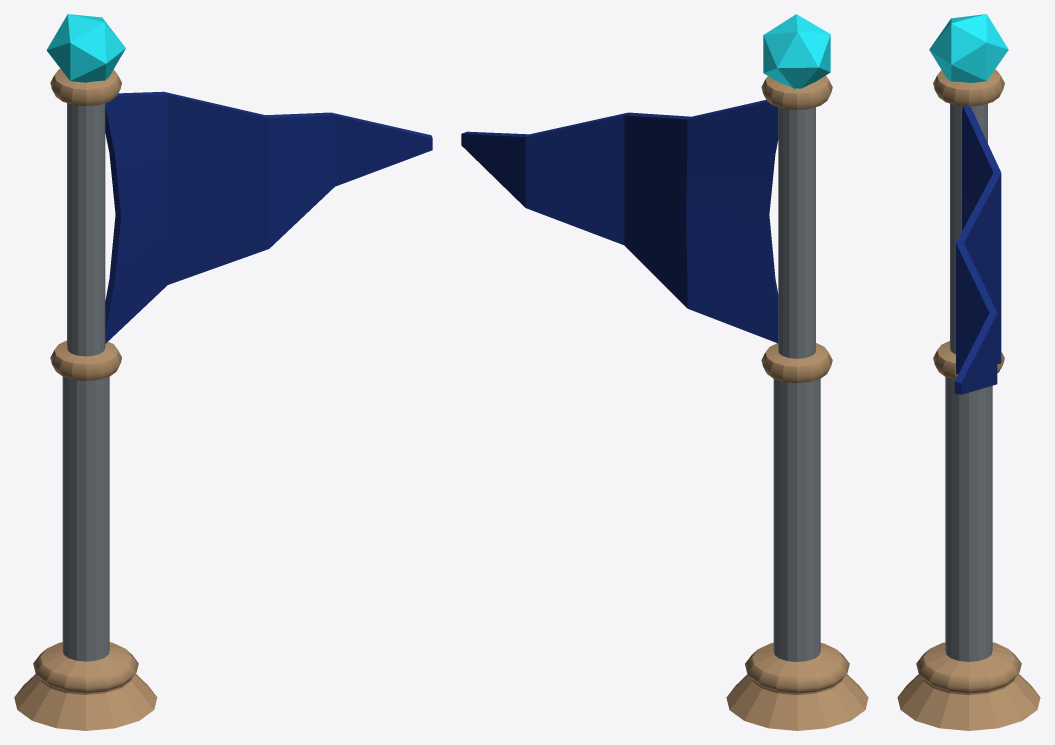
Rendered from Flag_Mage.fbx.
3 views of the same model, side by side, from view 1: azimuth 30°, elevation 25°; view 2: azimuth 150°, elevation 25°; view 3: azimuth 270°, elevation 25° (orthographic).
Visible parts, largest first — view 1: Bandiera_Mago_Join; view 2: Bandiera_Mago_Join; view 3: Bandiera_Mago_Join.
Boxes of the visible parts, x1=… form: Bandiera_Mago_Join: x1=14, y1=14, x2=432, y2=730; Bandiera_Mago_Join: x1=461, y1=14, x2=868, y2=730; Bandiera_Mago_Join: x1=897, y1=14, x2=1040, y2=730.
Size of the model in its own units: 198 by 321 by 60.96.
